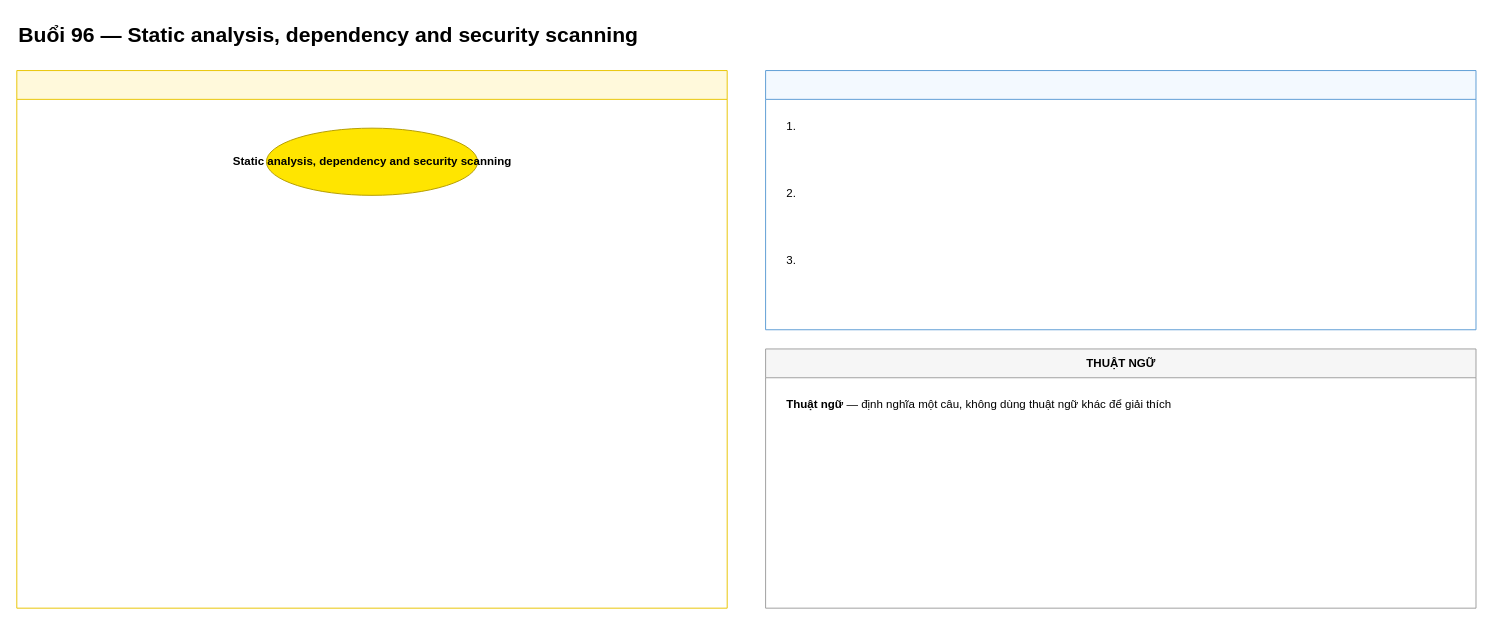
Some shapes in this 1493 by 625 pixel diagram are drawn without their labels. The box of each missing label's shape, as (x1, y1, x2, y2) in pixels:
KEY TAKEAWAY — ba điều phải nhớ: (765, 70, 1476, 330)
MINDMAP: (16, 70, 727, 608)
